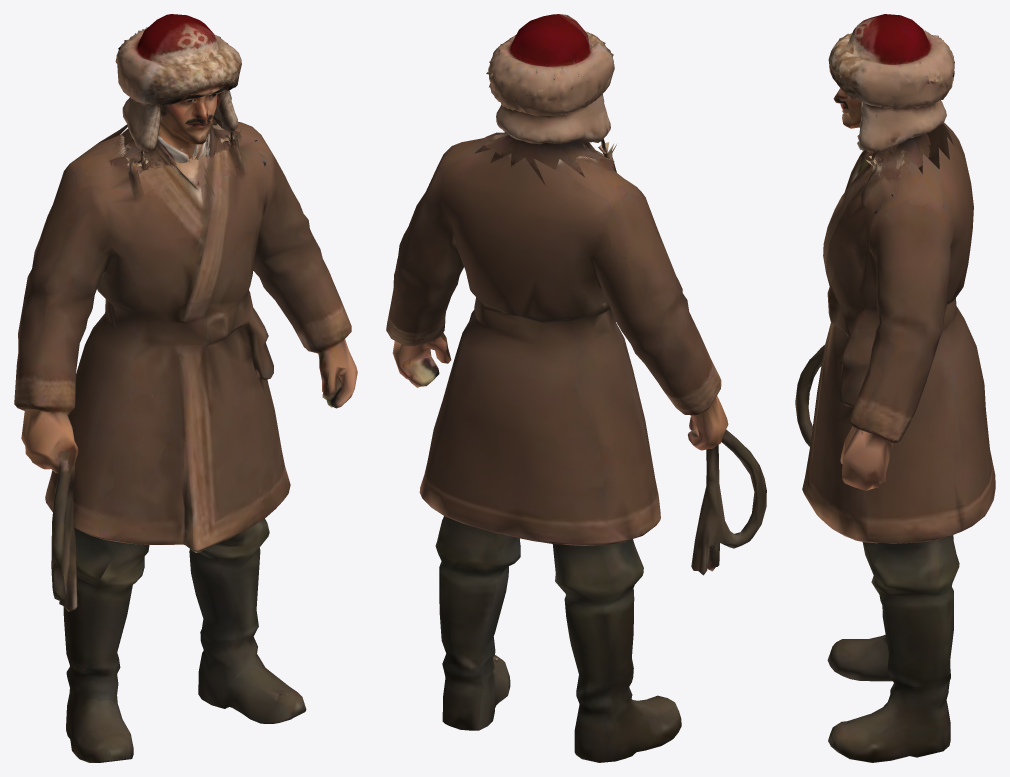
Rendered from herder-dauren.gen.glb.
3 renders of one model, left to right at view 1: azimuth 30°, elevation 25°; view 2: azimuth 150°, elevation 25°; view 3: azimuth 270°, elevation 25°, orthographic.
Parts seen in each view (by area): view 1: herder-dauren.raw; view 2: herder-dauren.raw; view 3: herder-dauren.raw.
Part boxes in pixels (x1,y1,x2,y2): herder-dauren.raw: (14,14,357,762); herder-dauren.raw: (386,14,766,762); herder-dauren.raw: (795,14,995,762).
Bounding box in the file's own units: 0.9165 × 1.85 × 0.4826.
Materials: 1 (1 with a texture image).
